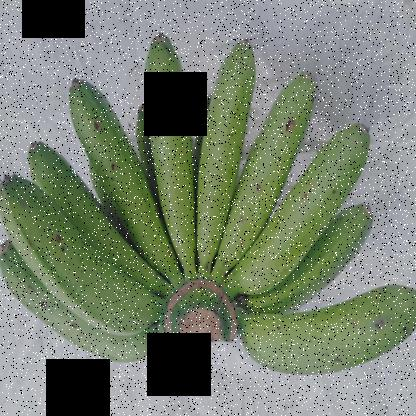unripe: (1, 158, 155, 352), (191, 1, 270, 245), (144, 15, 205, 286), (230, 290, 415, 379)
